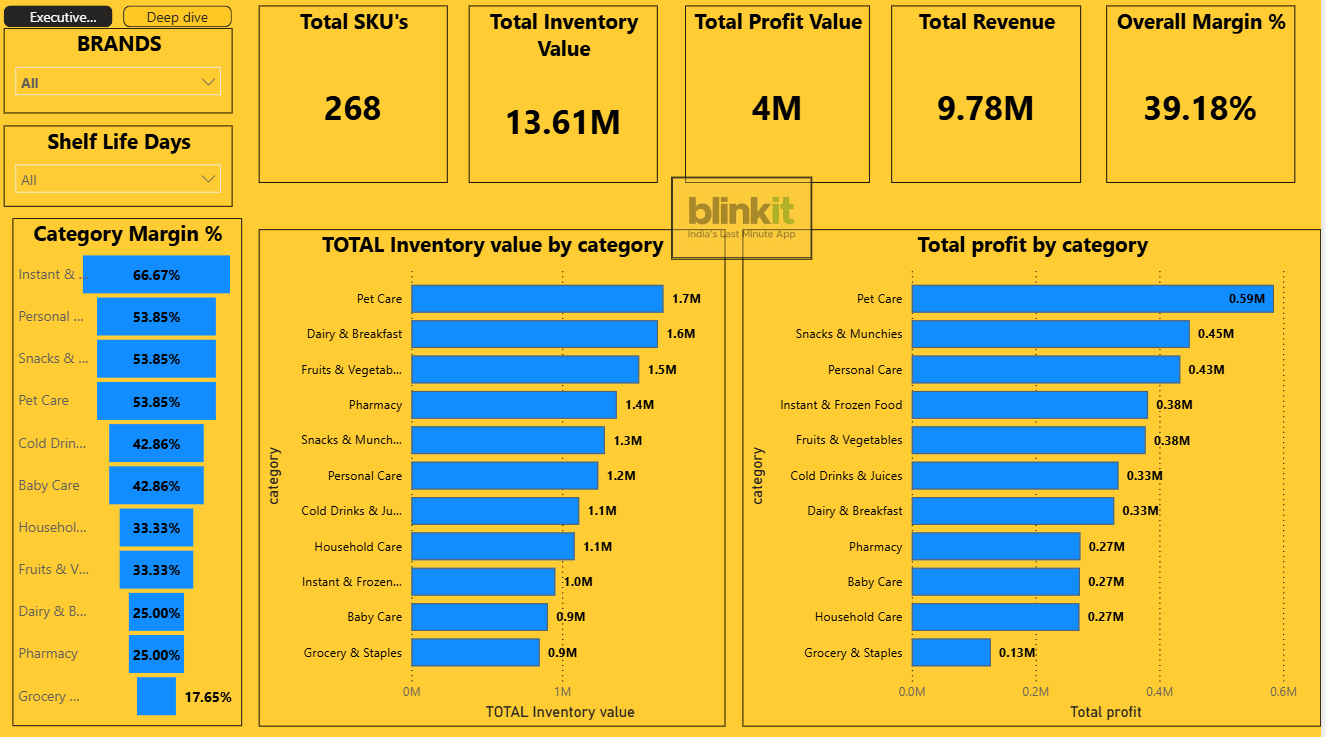

This screenshot's page, from the dashboard's own definition file:
{"tool":"powerbi","page":{"name":"Page 1","canvas":[1280,720],"ordinal":0},"visuals":[{"type":"card","title":"Total Inventory Value","fields":{"Values":["blinkit_products.TOTAL Inventory value"]},"box":[457.2,12.1,182.2,171.3],"z":0},{"type":"card","title":"Total Profit Value","fields":{"Values":["blinkit_products.Total profit"]},"box":[666,12.1,178.6,171.3],"z":1000},{"type":"card","title":"Total Revenue","fields":{"Values":["blinkit_products.Total Revenue"]},"box":[865,12.1,183.4,171.3],"z":2000},{"type":"card","title":"Overall Margin %","fields":{"Values":["blinkit_products.Overall_Margin_%"]},"box":[1072.5,12.1,182.2,171.3],"z":3000},{"type":"card","title":"Total Product","fields":{"Values":["blinkit_products.Total profit"]},"box":[254.3,12.2,182.2,171.2],"z":4000},{"type":"barChart","fields":{"Category":["blinkit_products.category"],"Y":["blinkit_products.TOTAL Inventory value"]},"box":[254.6,228,450,480.2],"z":5000},{"type":"clusteredBarChart","title":"Total profit by category","fields":{"Category":["blinkit_products.category"],"Y":["blinkit_products.Total profit"]},"box":[721.5,228,558.6,480.2],"z":6000},{"type":"funnel","title":"Category Margin % ","fields":{"Category":["blinkit_products.category"],"Y":["blinkit_products.Overall_Margin_%"]},"box":[17.1,217.7,221.3,490.4],"z":7000},{"type":"slicer","title":"BRANDS","fields":{"Values":["blinkit_products.brand"]},"box":[8.6,12.2,220.1,81.9],"z":8000},{"type":"slicer","title":"Shelf Life Days","fields":{"Values":["blinkit_products.shelf_life_days"]},"box":[8.6,105.2,220.1,78.3],"z":10000},{"type":"image","box":[653,163.9,135.7,79.5],"z":11000}]}

Visuals, with their boxes in screenshot pixels (x1, y1, x2, y2), scaled from the page's 1280x720 canvas onto the 1326x737 screenshot:
"Total Inventory Value" card: {"x1": 474, "y1": 12, "x2": 662, "y2": 188}
"Total Profit Value" card: {"x1": 690, "y1": 12, "x2": 875, "y2": 188}
"Total Revenue" card: {"x1": 896, "y1": 12, "x2": 1086, "y2": 188}
"Overall Margin %" card: {"x1": 1111, "y1": 12, "x2": 1300, "y2": 188}
"Total Product" card: {"x1": 263, "y1": 12, "x2": 452, "y2": 188}
barChart - blinkit_products.category x blinkit_products.TOTAL Inventory value: {"x1": 264, "y1": 233, "x2": 730, "y2": 725}
"Total profit by category" clusteredBarChart: {"x1": 747, "y1": 233, "x2": 1325, "y2": 725}
"Category Margin % " funnel: {"x1": 18, "y1": 223, "x2": 247, "y2": 725}
"BRANDS" slicer: {"x1": 9, "y1": 12, "x2": 237, "y2": 96}
"Shelf Life Days" slicer: {"x1": 9, "y1": 108, "x2": 237, "y2": 188}
image: {"x1": 676, "y1": 168, "x2": 817, "y2": 249}
